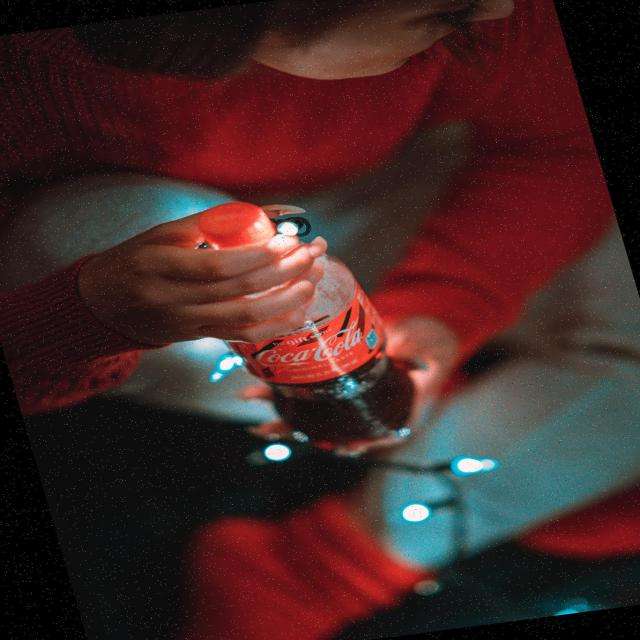coca-cola: (234, 317, 386, 377)
